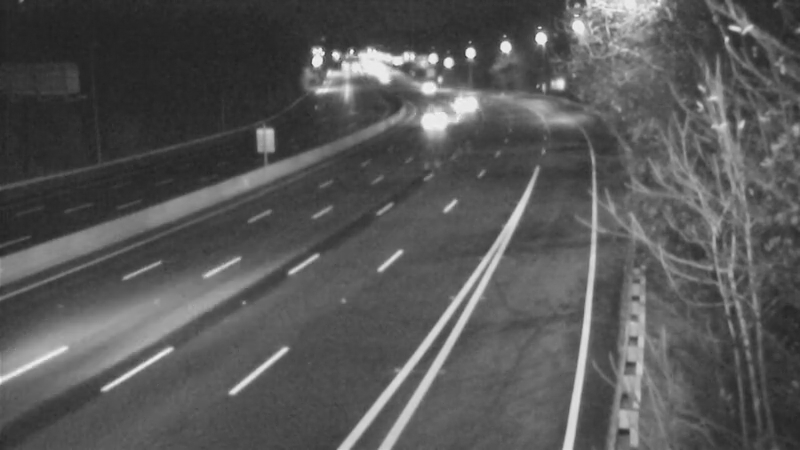vehicle: (403, 62, 453, 112), (438, 73, 488, 123), (409, 92, 459, 142)
